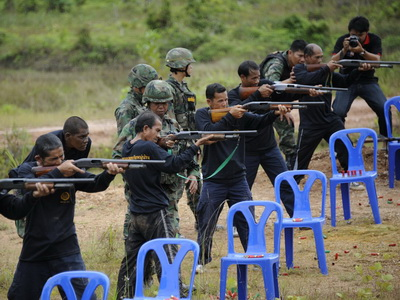gun: (208, 98, 327, 125), (154, 127, 259, 153), (27, 157, 170, 175), (236, 79, 352, 100), (1, 175, 97, 194), (299, 59, 399, 76)
helmet: (139, 78, 176, 105), (128, 62, 161, 91), (164, 46, 197, 71)
